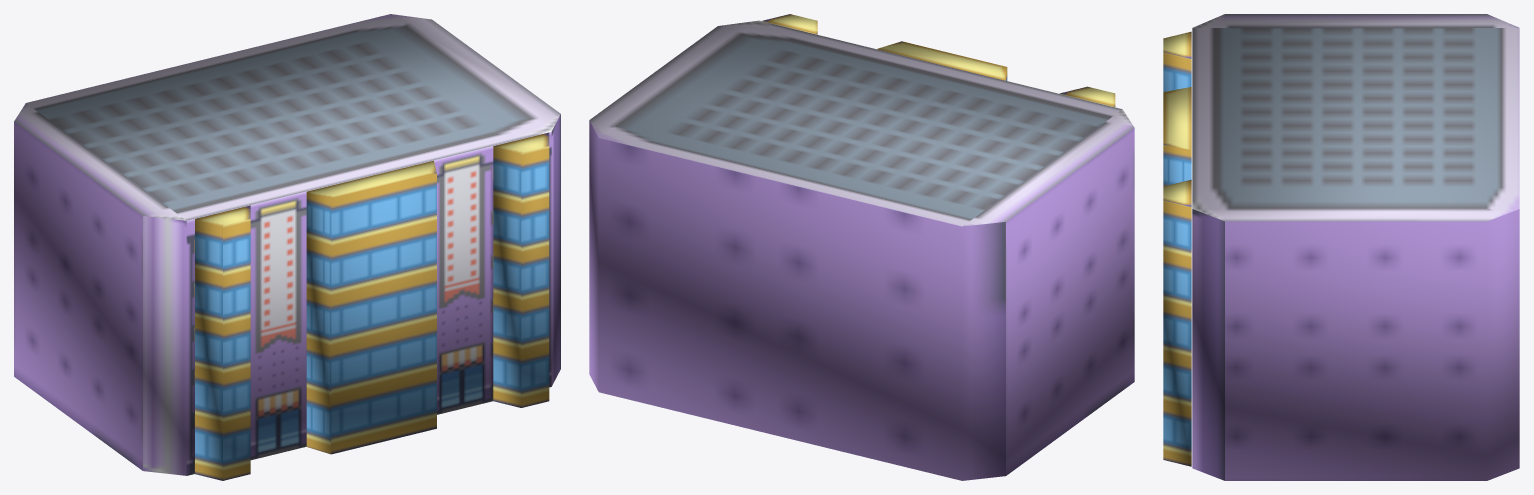
The model's file is CentroComercial.obj.
The picture shows the model from 3 angles, left to right: view 1: azimuth 30°, elevation 25°; view 2: azimuth 150°, elevation 25°; view 3: azimuth 270°, elevation 25°; orthographic projection. The views are drawn at different scales.
Parts seen in each view (by area): view 1: CentroComercial, VentanaCenCentro001, VentanaDerCentro, VentanaIzqCentro; view 2: CentroComercial, VentanaCenCentro001, VentanaIzqCentro, VentanaDerCentro; view 3: CentroComercial, VentanaDerCentro, VentanaCenCentro001, VentanaIzqCentro.
Part boxes in pixels (x1,y1,x2,y2): CentroComercial: [14, 14, 560, 475]; VentanaCenCentro001: [306, 160, 436, 454]; VentanaDerCentro: [493, 132, 549, 407]; VentanaIzqCentro: [195, 205, 250, 480]; CentroComercial: [589, 20, 1134, 480]; VentanaCenCentro001: [877, 41, 1007, 80]; VentanaIzqCentro: [1059, 86, 1115, 107]; VentanaDerCentro: [762, 14, 817, 34]; CentroComercial: [1192, 14, 1519, 480]; VentanaDerCentro: [1163, 179, 1191, 466]; VentanaCenCentro001: [1163, 87, 1191, 186]; VentanaIzqCentro: [1163, 31, 1191, 91].
Bounding box in the file's own units: 30.55 × 17.84 × 22.18.
